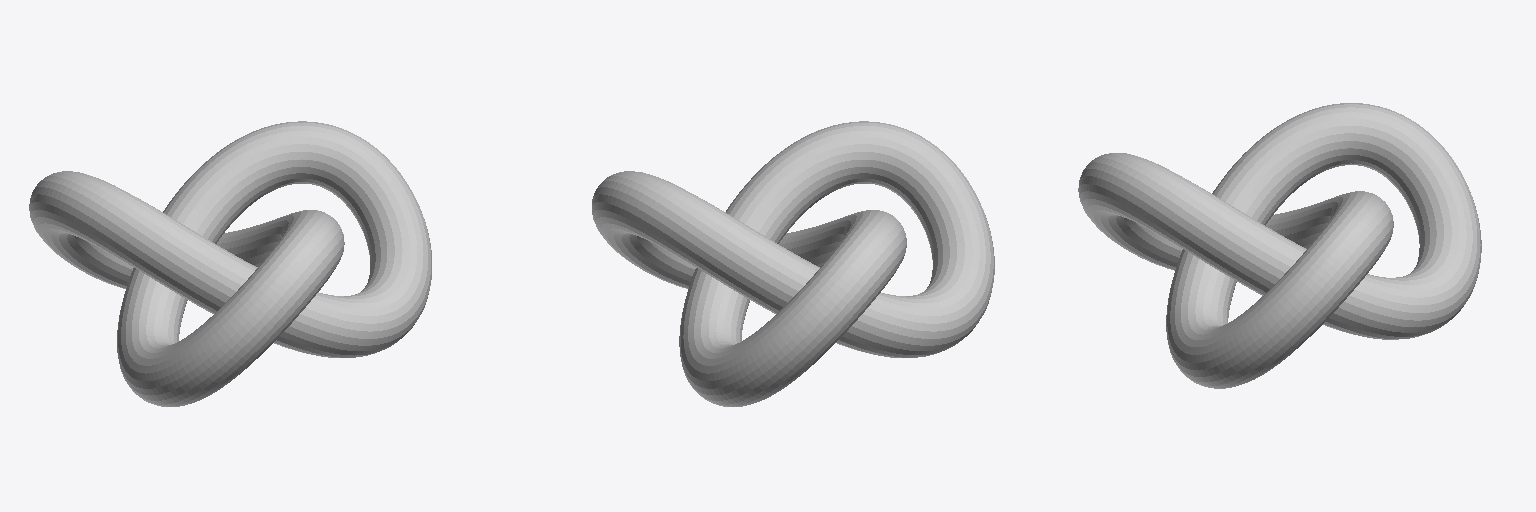
Rendered from torusknot1.obj.
3 renders of one model, left to right at view 1: azimuth 30°, elevation 25°; view 2: azimuth 150°, elevation 25°; view 3: azimuth 270°, elevation 25°, orthographic.
Visible parts, largest first — view 1: TorusKnot; view 2: TorusKnot; view 3: TorusKnot.
Boxes of the visible parts, x1=… form: TorusKnot: x1=29, y1=121, x2=431, y2=406; TorusKnot: x1=592, y1=121, x2=994, y2=406; TorusKnot: x1=1078, y1=103, x2=1481, y2=388.
Size of the model in its own units: 6.06 by 3 by 6.47.